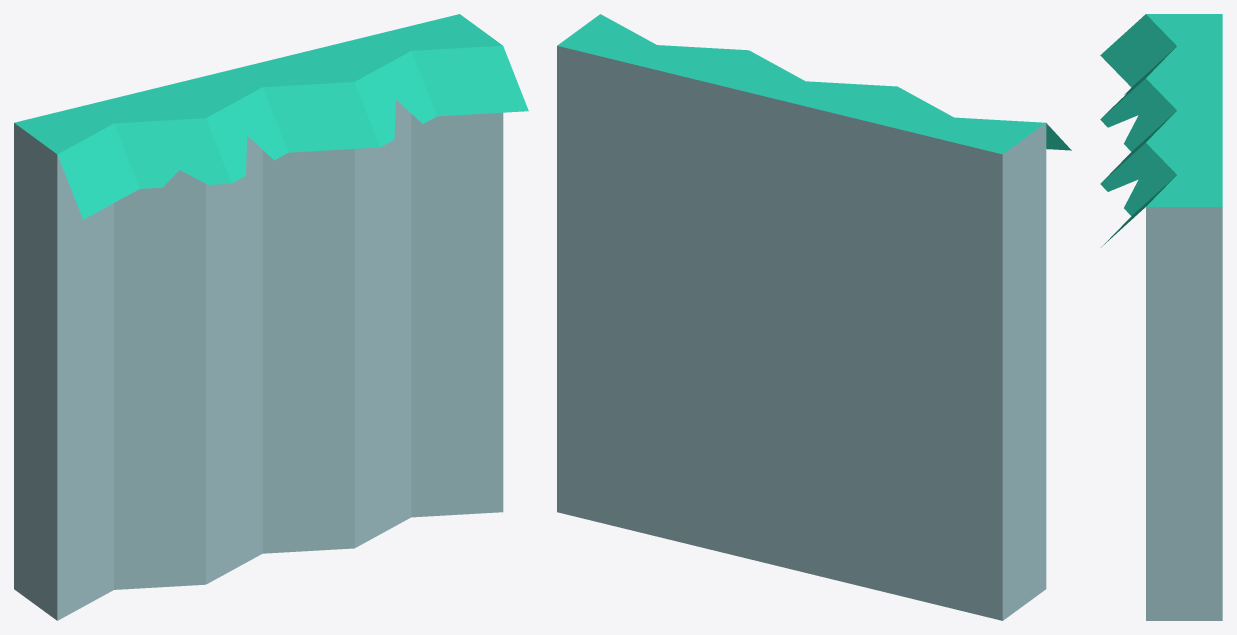
Rendered from cliff_top_stone.dae.
3 views of the same model, side by side, from view 1: azimuth 30°, elevation 25°; view 2: azimuth 150°, elevation 25°; view 3: azimuth 270°, elevation 25° (orthographic). The views are drawn at different scales.
Parts seen in each view (by area): view 1: cliff_top_stone; view 2: cliff_top_stone; view 3: cliff_top_stone.
Boxes of the visible parts, box(x1,y1,x2,y2) form: cliff_top_stone: box(14, 14, 528, 620); cliff_top_stone: box(557, 14, 1071, 620); cliff_top_stone: box(1100, 14, 1222, 620).
Size of the model in its own units: 1 by 1 by 0.2685.
